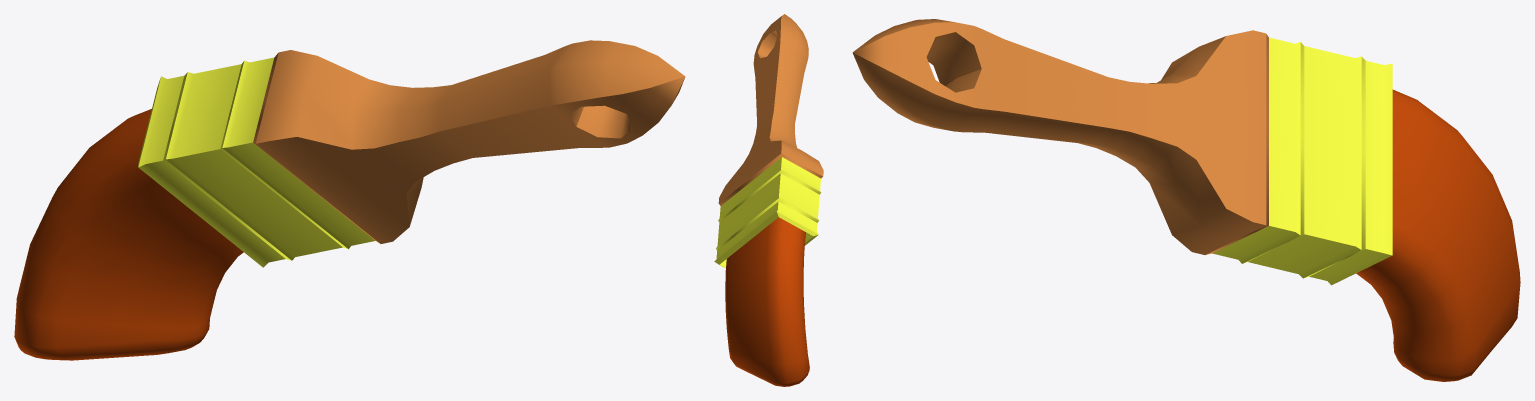
The model's file is MSZS.FBX.
The picture shows the model from 3 angles, left to right: view 1: azimuth 30°, elevation 25°; view 2: azimuth 150°, elevation 25°; view 3: azimuth 270°, elevation 25°; orthographic projection. The views are drawn at different scales.
Visible parts, largest first — view 1: shuabing, mao; view 2: shuabing, mao; view 3: shuabing, mao.
Part boxes in pixels (x1,y1,x2,y2): shuabing: [138, 40, 685, 267]; mao: [14, 109, 243, 360]; shuabing: [714, 14, 823, 268]; mao: [725, 217, 809, 386]; shuabing: [852, 19, 1392, 285]; mao: [1356, 89, 1520, 381].
Bounding box in the file's own units: 3.77 × 4.38 × 5.92.
